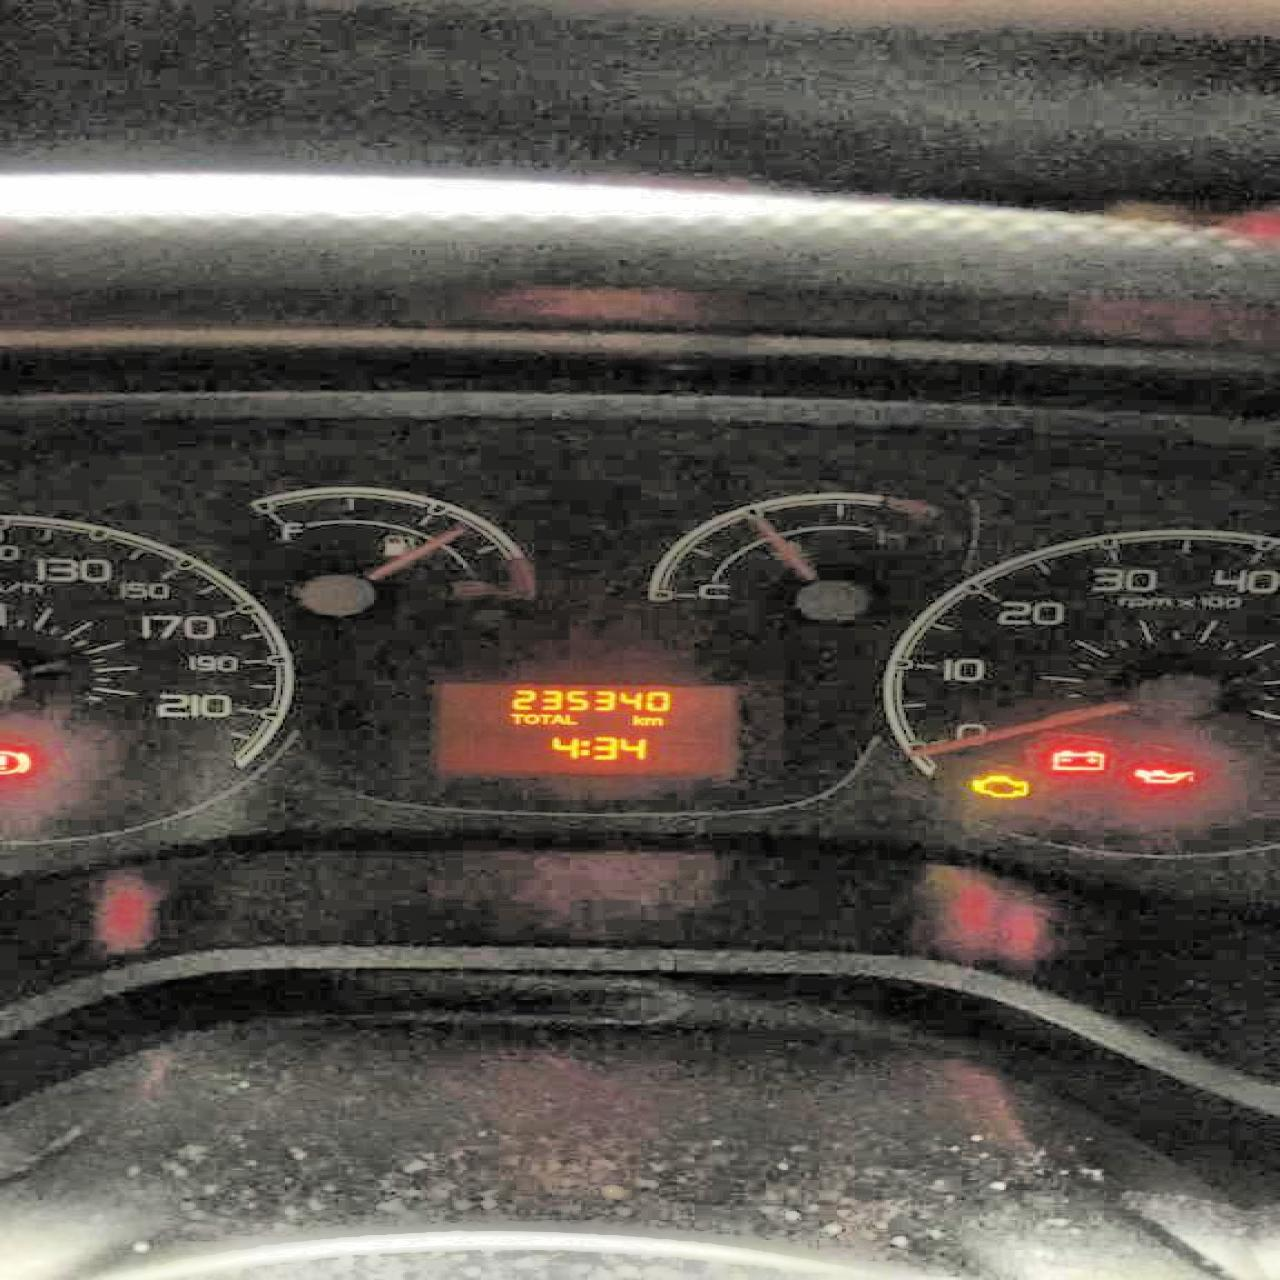0: (644, 690, 668, 712)
2: (510, 688, 536, 710)
3: (592, 735, 617, 760), (539, 688, 564, 710), (592, 689, 614, 712)
4: (547, 735, 579, 757), (619, 736, 645, 758), (617, 690, 639, 710)
5: (564, 689, 587, 709)
X: (505, 712, 523, 723), (550, 712, 564, 726), (579, 737, 590, 756), (564, 713, 579, 726), (644, 716, 663, 726), (629, 713, 641, 726), (523, 713, 537, 723), (539, 713, 550, 723)
odometer: (425, 678, 738, 778)
